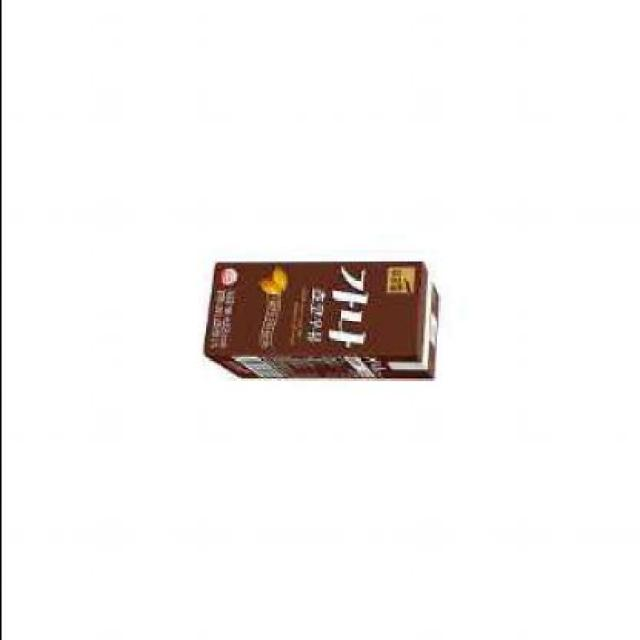tetra: (170, 217, 496, 403)
